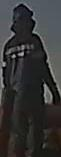gloves: (47, 82, 61, 107)
vest: (3, 34, 47, 99)
